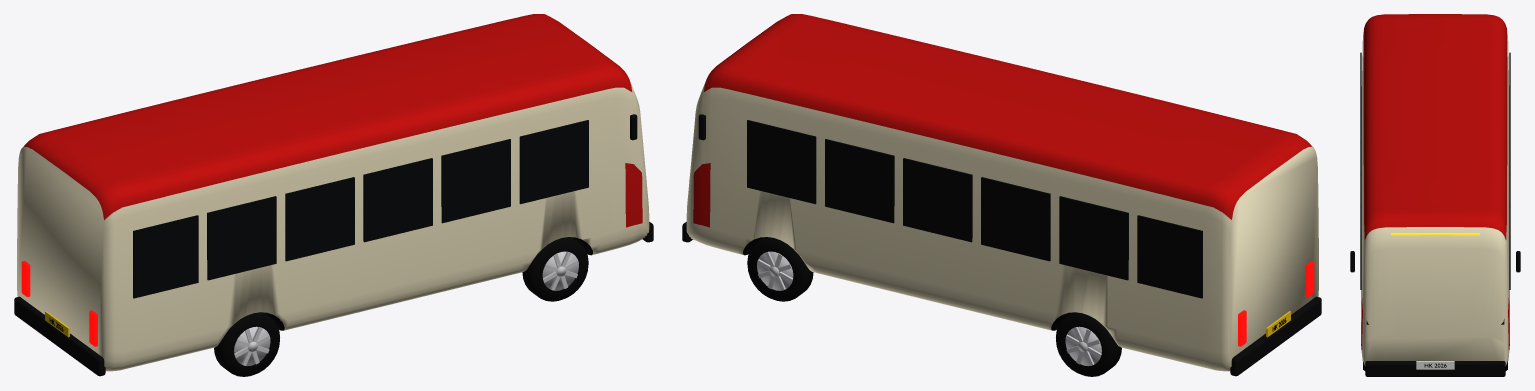
File: minibus.glb
3 views of the same model, side by side, from view 1: azimuth 30°, elevation 25°; view 2: azimuth 150°, elevation 25°; view 3: azimuth 270°, elevation 25° (orthographic). The views are drawn at different scales.
Parts seen in each view (by area): view 1: body, win.010, win.007, win.008, win.009, win.006, win.011, w_tyre.001, w_tyre.003, bumperR, w_rim.001, w_rim.003; view 2: body, win.004, win.001, win.002, win.003, win, win.005, w_tyre, w_tyre.002, bumperR, w_rim, w_rim.002; view 3: body, bumperF, plate, dest, win, win.006.
Part boxes in pixels (bbox=[...]): body: bbox=[17, 14, 649, 371]; win.010: bbox=[207, 196, 276, 280]; win.007: bbox=[441, 139, 510, 223]; win.008: bbox=[363, 158, 432, 242]; win.009: bbox=[285, 177, 354, 261]; win.006: bbox=[519, 120, 588, 204]; win.011: bbox=[133, 215, 198, 298]; w_tyre.001: bbox=[522, 237, 588, 301]; w_tyre.003: bbox=[214, 312, 279, 376]; bumperR: bbox=[14, 296, 105, 376]; w_rim.001: bbox=[542, 251, 578, 290]; w_rim.003: bbox=[234, 326, 270, 365]; body: bbox=[686, 14, 1318, 371]; win.004: bbox=[1059, 196, 1128, 280]; win.001: bbox=[825, 139, 894, 223]; win.002: bbox=[903, 158, 972, 242]; win.003: bbox=[981, 177, 1050, 261]; win: bbox=[747, 120, 816, 204]; win.005: bbox=[1137, 215, 1202, 298]; w_tyre: bbox=[747, 237, 813, 301]; w_tyre.002: bbox=[1056, 312, 1121, 376]; bumperR: bbox=[1230, 296, 1321, 376]; w_rim: bbox=[757, 251, 793, 290]; w_rim.002: bbox=[1065, 326, 1101, 365]; body: bbox=[1361, 14, 1509, 365]; bumperF: bbox=[1365, 361, 1505, 376]; plate: bbox=[1416, 361, 1454, 369]; dest: bbox=[1391, 233, 1479, 235]; win: bbox=[1509, 207, 1510, 289]; win.006: bbox=[1360, 207, 1361, 289].
Bounding box in the file's own units: 7.12 × 2.67 × 2.3.
